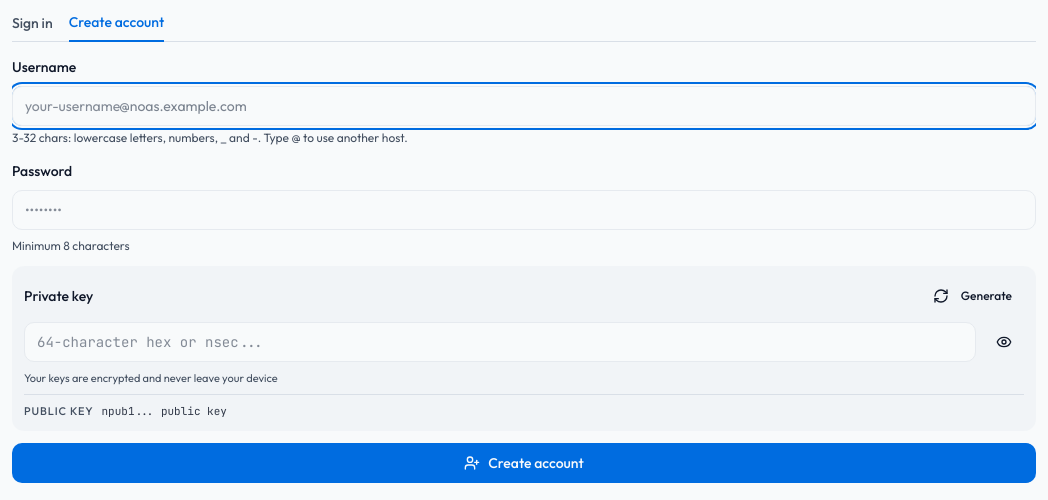
Test: Noas auth forms › fills in the default host before sign-up submit interactions
The image size is (1048, 500).
In the field labelled "Username": (524, 106) [12, 86, 1036, 126], type "alice"
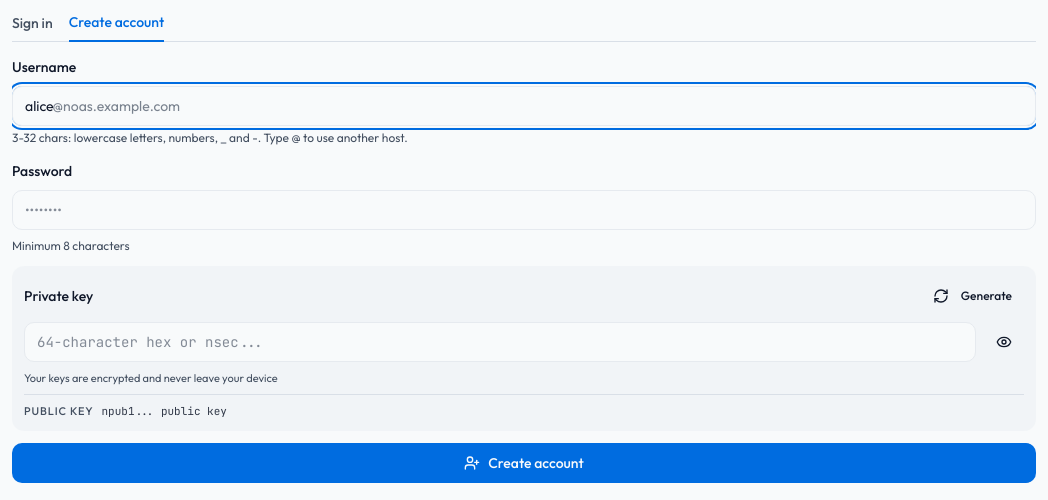
Press the mouse on the button with test id "noas-sign-up-submit": (524, 463) [12, 443, 1036, 483]
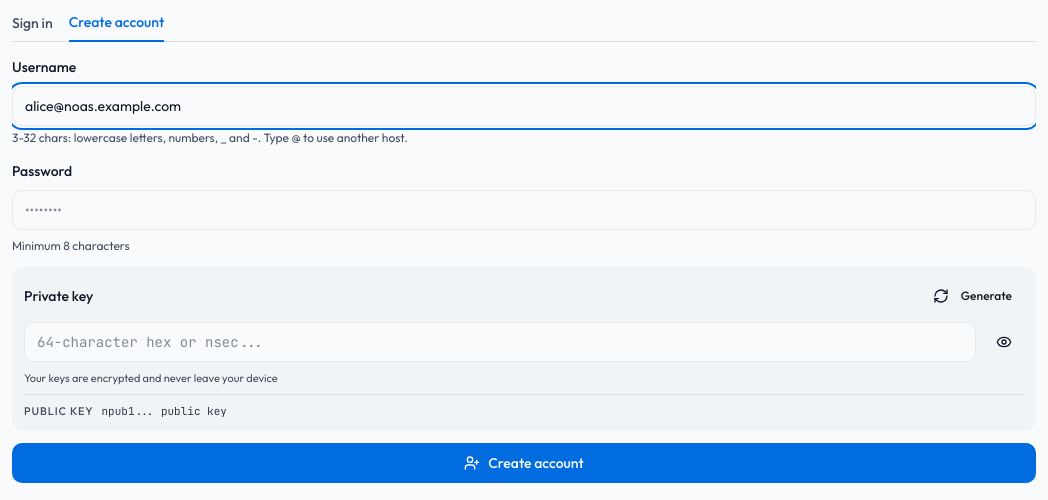
Result: the field labelled "Username" holds "alice@noas.example.com" at [12, 86, 1036, 126]
